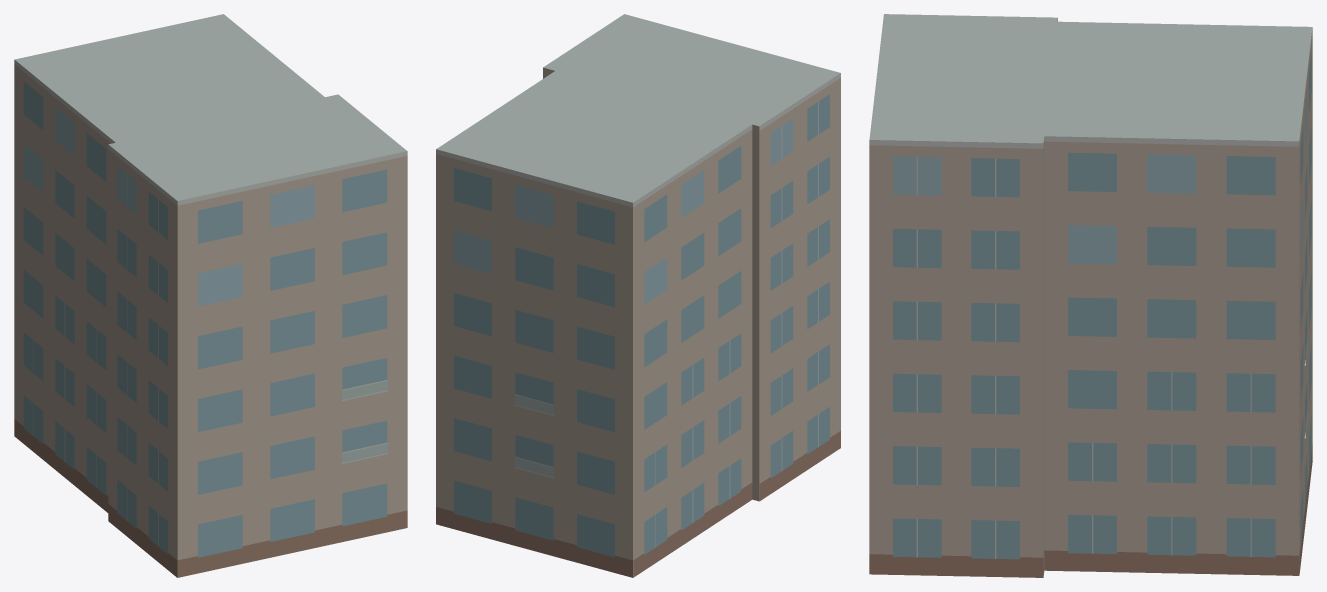
File: survey-upis-32653441.glb
The picture shows the model from 3 angles, left to right: view 1: azimuth 30°, elevation 25°; view 2: azimuth 150°, elevation 25°; view 3: azimuth 270°, elevation 25°; orthographic projection. The views are drawn at different scales.
Visible parts, largest first — view 1: survey-upis-32653441.tmp; view 2: survey-upis-32653441.tmp; view 3: survey-upis-32653441.tmp.
Part boxes in pixels (<box>): survey-upis-32653441.tmp: <box>14,14,407,577</box>; survey-upis-32653441.tmp: <box>436,14,840,577</box>; survey-upis-32653441.tmp: <box>869,14,1312,577</box>.
Bounding box in the file's own units: 12.53 × 19.6 × 18.13.
